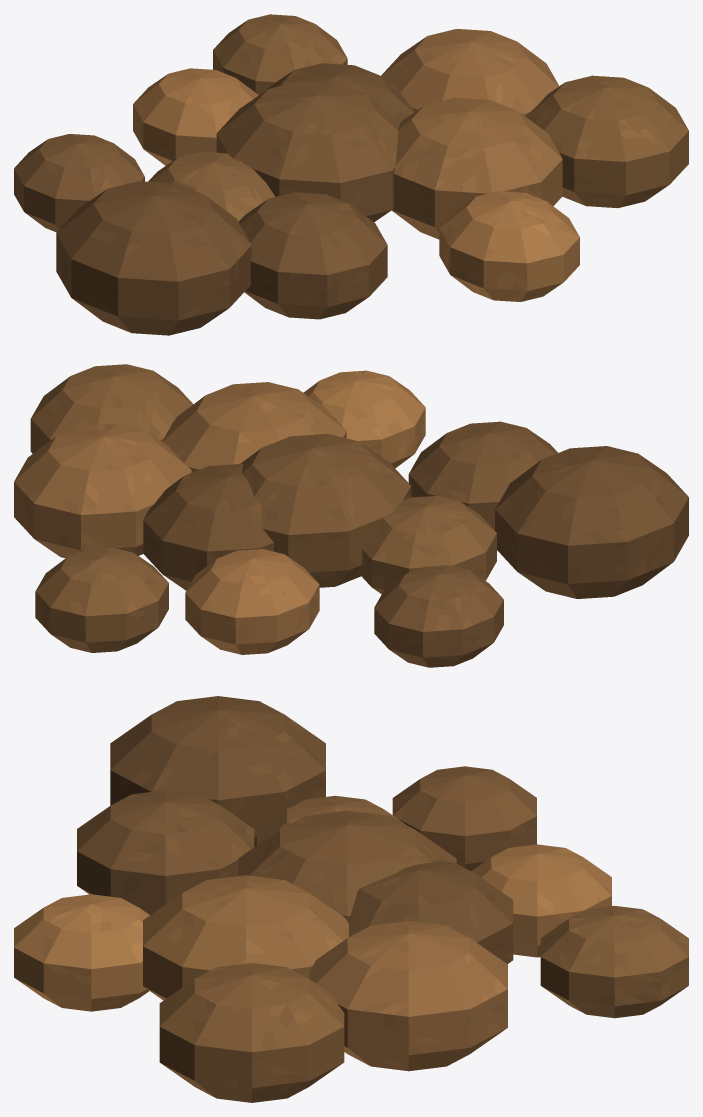
The model's file is barley.glb.
3 views of the same model, one above another, from view 1: azimuth 30°, elevation 25°; view 2: azimuth 150°, elevation 25°; view 3: azimuth 270°, elevation 25° (orthographic). The views are drawn at different scales.
Parts seen in each view (by area): view 1: block_grain 10, block_grain 0, block_grain 3, block_grain 11, block_grain 5, block_grain 8, block_grain 6, block_grain 4, block_grain 7, block_grain 9, block_grain 2, block_grain 1; view 2: block_grain 10, block_grain 0, block_grain 6, block_grain 4, block_grain 9, block_grain 7, block_grain 1, block_grain 3, block_grain 2, block_grain 5, block_grain 11, block_grain 8; view 3: block_grain 6, block_grain 11, block_grain 10, block_grain 3, block_grain 5, block_grain 9, block_grain 8, block_grain 0, block_grain 7, block_grain 1, block_grain 4, block_grain 2.
Part boxes in pixels (x1=…): block_grain 10: x1=56, y1=181, x2=251, y2=335; block_grain 0: x1=216, y1=81, x2=400, y2=222; block_grain 3: x1=392, y1=97, x2=562, y2=239; block_grain 11: x1=525, y1=75, x2=688, y2=208; block_grain 5: x1=239, y1=192, x2=387, y2=319; block_grain 8: x1=439, y1=191, x2=579, y2=301; block_grain 6: x1=381, y1=29, x2=558, y2=116; block_grain 4: x1=133, y1=68, x2=258, y2=165; block_grain 7: x1=14, y1=134, x2=144, y2=232; block_grain 9: x1=213, y1=14, x2=347, y2=95; block_grain 2: x1=148, y1=151, x2=275, y2=221; block_grain 1: x1=266, y1=63, x2=415, y2=120; block_grain 10: x1=495, y1=446, x2=688, y2=598; block_grain 0: x1=240, y1=434, x2=411, y2=587; block_grain 6: x1=14, y1=423, x2=191, y2=558; block_grain 4: x1=185, y1=549, x2=319, y2=654; block_grain 9: x1=35, y1=547, x2=168, y2=652; block_grain 7: x1=374, y1=565, x2=503, y2=667; block_grain 1: x1=143, y1=464, x2=273, y2=590; block_grain 3: x1=162, y1=382, x2=346, y2=472; block_grain 2: x1=357, y1=496, x2=496, y2=594; block_grain 5: x1=408, y1=421, x2=557, y2=530; block_grain 11: x1=30, y1=364, x2=193, y2=453; block_grain 8: x1=303, y1=370, x2=425, y2=468; block_grain 6: x1=309, y1=921, x2=507, y2=1071; block_grain 11: x1=159, y1=963, x2=344, y2=1102; block_grain 10: x1=110, y1=696, x2=325, y2=846; block_grain 3: x1=143, y1=875, x2=348, y2=1000; block_grain 5: x1=77, y1=790, x2=254, y2=914; block_grain 9: x1=540, y1=905, x2=688, y2=1018; block_grain 8: x1=14, y1=894, x2=149, y2=1011; block_grain 0: x1=238, y1=810, x2=456, y2=918; block_grain 7: x1=392, y1=766, x2=536, y2=871; block_grain 1: x1=346, y1=860, x2=513, y2=963; block_grain 4: x1=471, y1=844, x2=611, y2=957; block_grain 2: x1=257, y1=795, x2=404, y2=844.
Size of the model in its own units: 0.114 by 0.0224 by 0.0996.
1 material, 1 textured.
